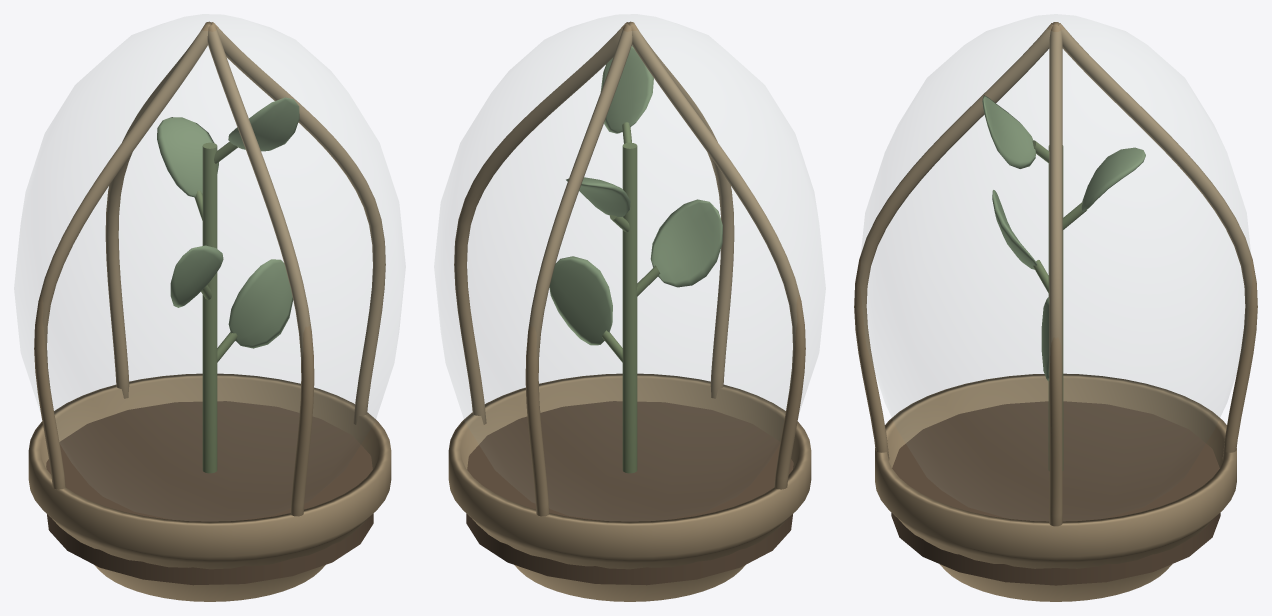
The model's file is terrarium.glb.
3 views of the same model, side by side, from view 1: azimuth 30°, elevation 25°; view 2: azimuth 150°, elevation 25°; view 3: azimuth 270°, elevation 25° (orthographic).
Parts seen in each view (by area): view 1: closed-glass-envelope, terrarium-contained-soil, terrarium-hollow-vessel, glazing-bar-2, glazing-bar-1, glazing-bar-0, miniature-rooted-stem, miniature-leaf-0, glazing-bar-3, miniature-leaf-2, miniature-leaf-3, miniature-leaf-1; view 2: closed-glass-envelope, terrarium-contained-soil, terrarium-hollow-vessel, glazing-bar-2, glazing-bar-3, glazing-bar-0, miniature-rooted-stem, miniature-leaf-1, miniature-leaf-0, glazing-bar-1, miniature-leaf-3, miniature-leaf-2; view 3: closed-glass-envelope, terrarium-contained-soil, terrarium-hollow-vessel, glazing-bar-3, glazing-bar-1, glazing-bar-0, miniature-leaf-3, miniature-leaf-2, miniature-rooted-stem, miniature-leaf-1, miniature-leaf-0.
Boxes of the visible parts, x1=… form: closed-glass-envelope: x1=14, y1=14, x2=405, y2=520; terrarium-contained-soil: x1=46, y1=401, x2=373, y2=585; terrarium-hollow-vessel: x1=28, y1=373, x2=391, y2=601; glazing-bar-2: x1=34, y1=24, x2=208, y2=489; glazing-bar-1: x1=207, y1=25, x2=314, y2=516; glazing-bar-0: x1=210, y1=22, x2=385, y2=424; miniature-rooted-stem: x1=202, y1=142, x2=217, y2=473; miniature-leaf-0: x1=228, y1=259, x2=293, y2=348; glazing-bar-3: x1=105, y1=21, x2=211, y2=398; miniature-leaf-2: x1=157, y1=117, x2=218, y2=197; miniature-leaf-3: x1=228, y1=97, x2=299, y2=151; miniature-leaf-1: x1=170, y1=245, x2=223, y2=307; closed-glass-envelope: x1=434, y1=14, x2=825, y2=520; terrarium-contained-soil: x1=466, y1=401, x2=793, y2=585; terrarium-hollow-vessel: x1=448, y1=373, x2=811, y2=601; glazing-bar-2: x1=631, y1=24, x2=805, y2=489; glazing-bar-3: x1=525, y1=25, x2=632, y2=516; glazing-bar-0: x1=454, y1=22, x2=629, y2=424; miniature-rooted-stem: x1=622, y1=142, x2=637, y2=473; miniature-leaf-1: x1=650, y1=199, x2=722, y2=287; miniature-leaf-0: x1=549, y1=256, x2=612, y2=345; glazing-bar-1: x1=628, y1=21, x2=734, y2=398; miniature-leaf-3: x1=600, y1=45, x2=653, y2=133; miniature-leaf-2: x1=566, y1=177, x2=630, y2=216; closed-glass-envelope: x1=860, y1=14, x2=1251, y2=520; terrarium-contained-soil: x1=891, y1=401, x2=1220, y2=585; terrarium-hollow-vessel: x1=875, y1=373, x2=1236, y2=601; glazing-bar-3: x1=1058, y1=23, x2=1257, y2=460; glazing-bar-1: x1=854, y1=23, x2=1053, y2=460; glazing-bar-0: x1=1049, y1=25, x2=1062, y2=526; miniature-leaf-3: x1=982, y1=95, x2=1035, y2=168; miniature-leaf-2: x1=1081, y1=147, x2=1145, y2=211; miniature-rooted-stem: x1=1048, y1=145, x2=1063, y2=470; miniature-leaf-1: x1=992, y1=190, x2=1037, y2=269; miniature-leaf-0: x1=1041, y1=297, x2=1049, y2=380.
Bounding box in the file's own units: 0.4903 × 0.7071 × 0.4903.
